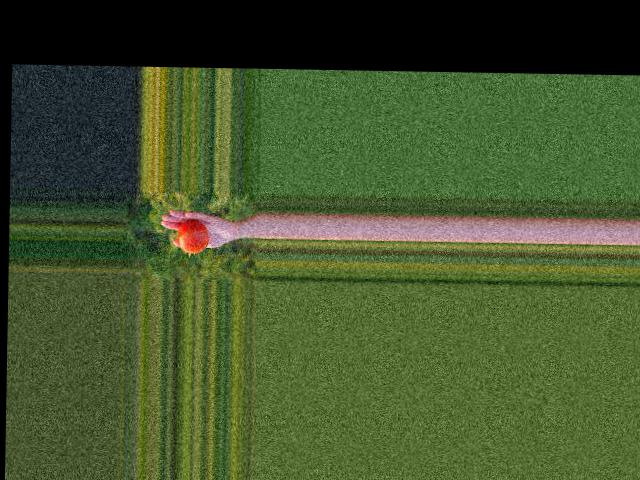tomato: (177, 218, 208, 253)
